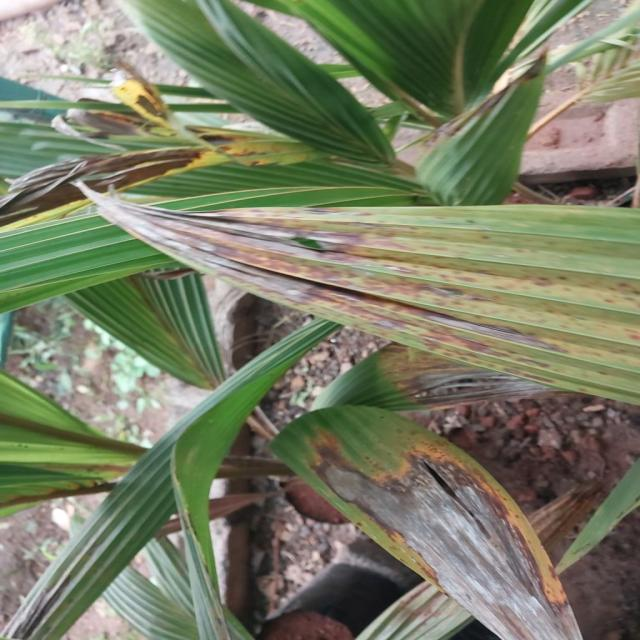gray leaf spot: (0, 80, 640, 640)
